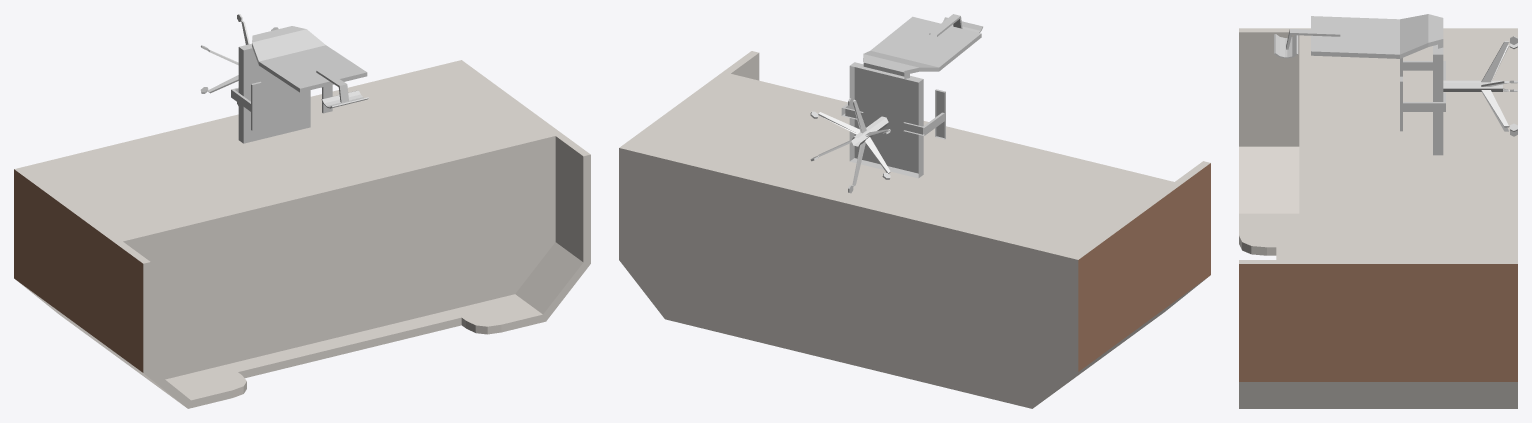
3 views of the same model, side by side, from view 1: azimuth 30°, elevation 25°; view 2: azimuth 150°, elevation 25°; view 3: azimuth 270°, elevation 25° (orthographic). The views are drawn at different scales.
Visible parts, largest first — view 1: Box001, 对象022; view 2: Box001, 对象022; view 3: Box001, 对象022.
Boxes of the visible parts, x1,y1,x2,y2 form: Box001: (14,60,590,408); 对象022: (200,14,368,143); Box001: (619,51,1210,408); 对象022: (810,14,982,193); Box001: (1239,28,1517,408); 对象022: (1274,14,1517,155).
Bounding box in the file's own units: 3 × 1.7 × 1.5.
3 materials, 1 textured.
